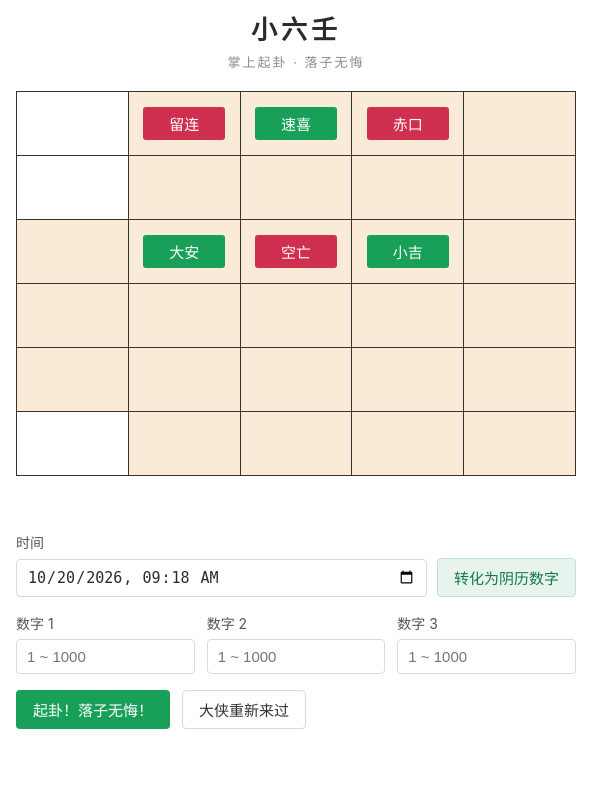
Test: XiaoLiuRen › 起卦后依次显示三个结果（月上起日、日上起时）
The width and height of the screenshot is (593, 789).
Type "3" into the number field labelled "数字 1" at (105, 656), box [16,639,195,674]
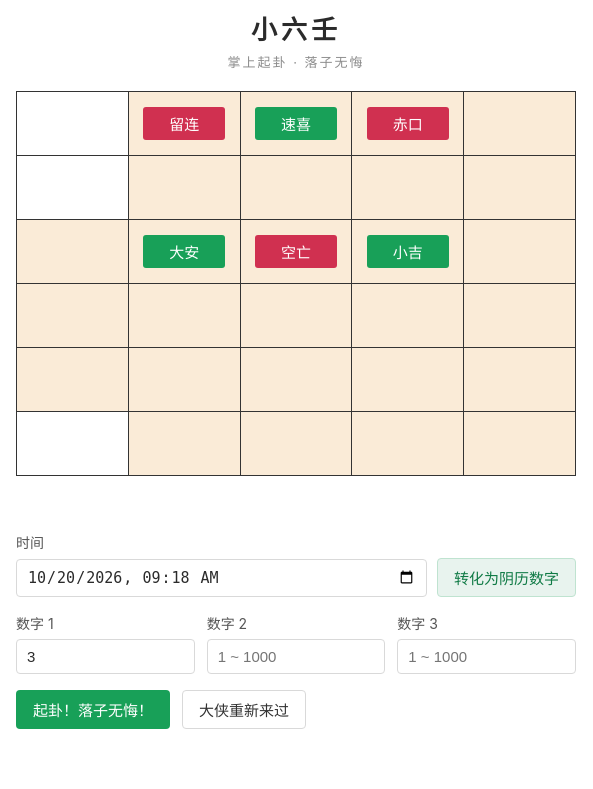
Type "5" into the number field labelled "数字 2" at (296, 656), box [207,639,385,674]
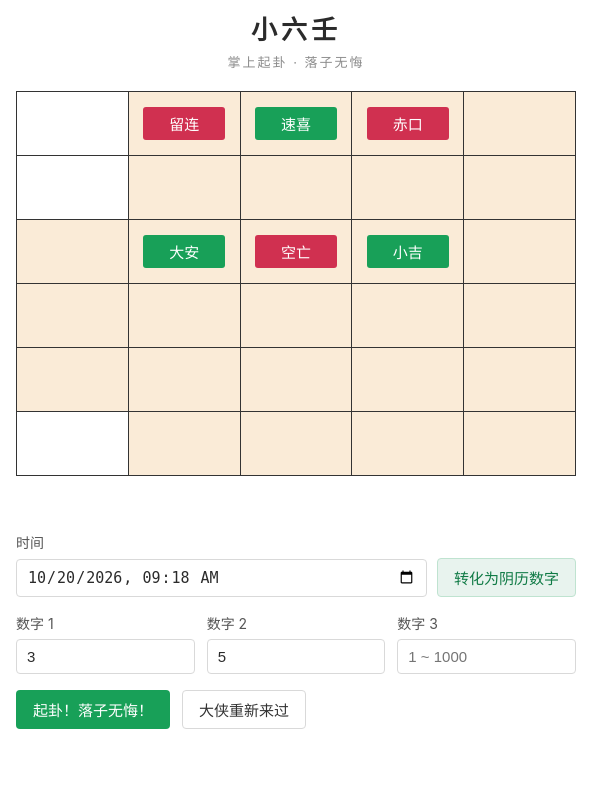
Type "8" into the number field labelled "数字 3" at (487, 656), box [397,639,576,674]
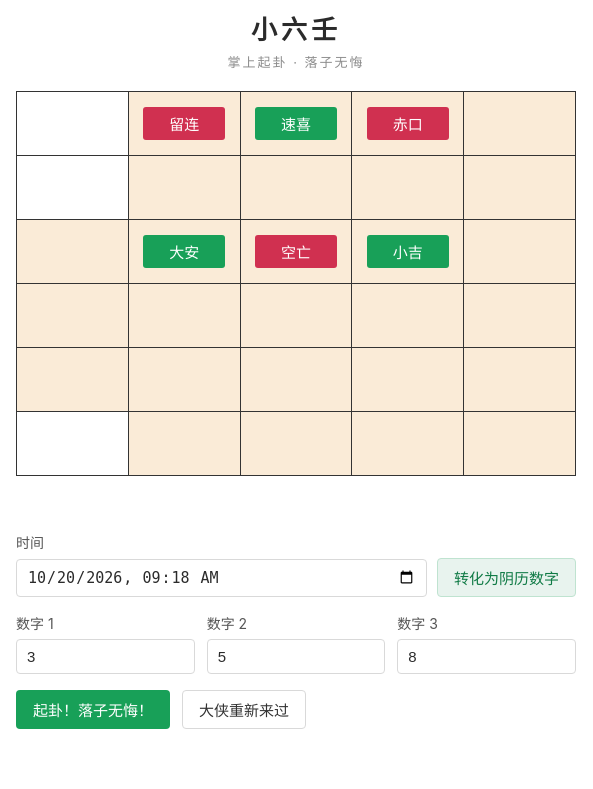
Submit the form, box [16,532,576,729]
Wait 5000 ms
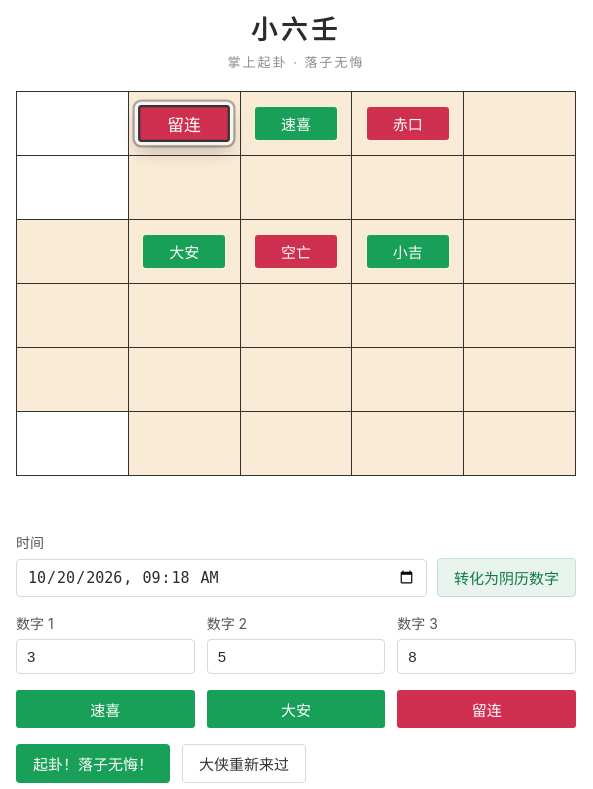
Expected: the number of elements with class "is-current" is 1, [138,105,230,142]
Expected: the elements with class "result" read "速喜", "大安", "留连", in this order, [16,690,195,728]; [207,690,385,728]; [397,690,576,728]
